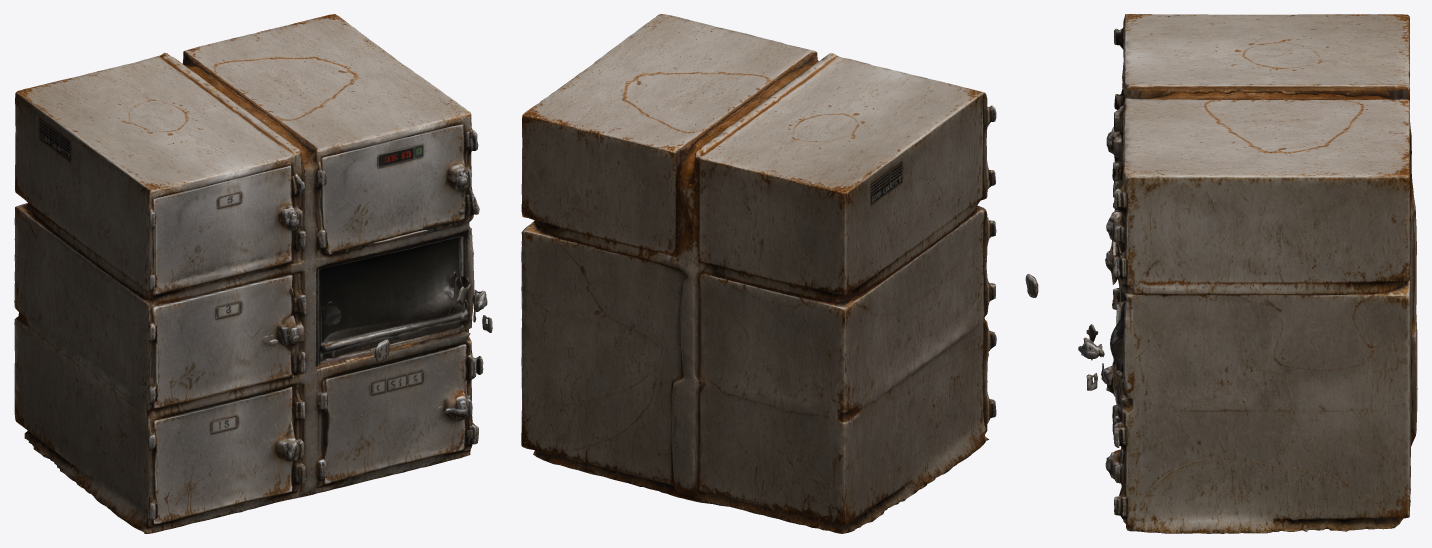
Rendered from MorgueUnit.fbx.
3 views of the same model, side by side, from view 1: azimuth 30°, elevation 25°; view 2: azimuth 150°, elevation 25°; view 3: azimuth 270°, elevation 25° (orthographic). The views are drawn at different scales.
Parts seen in each view (by area): view 1: texture_mapping; view 2: texture_mapping; view 3: texture_mapping.
Part boxes in pixels (x1=…): texture_mapping: x1=14, y1=14, x2=492, y2=533; texture_mapping: x1=521, y1=14, x2=996, y2=533; texture_mapping: x1=1025, y1=14, x2=1417, y2=533.
Bounding box in the file's own units: 0.8391 × 0.814 × 0.8253.
Materials: 1 (1 with a texture image).
